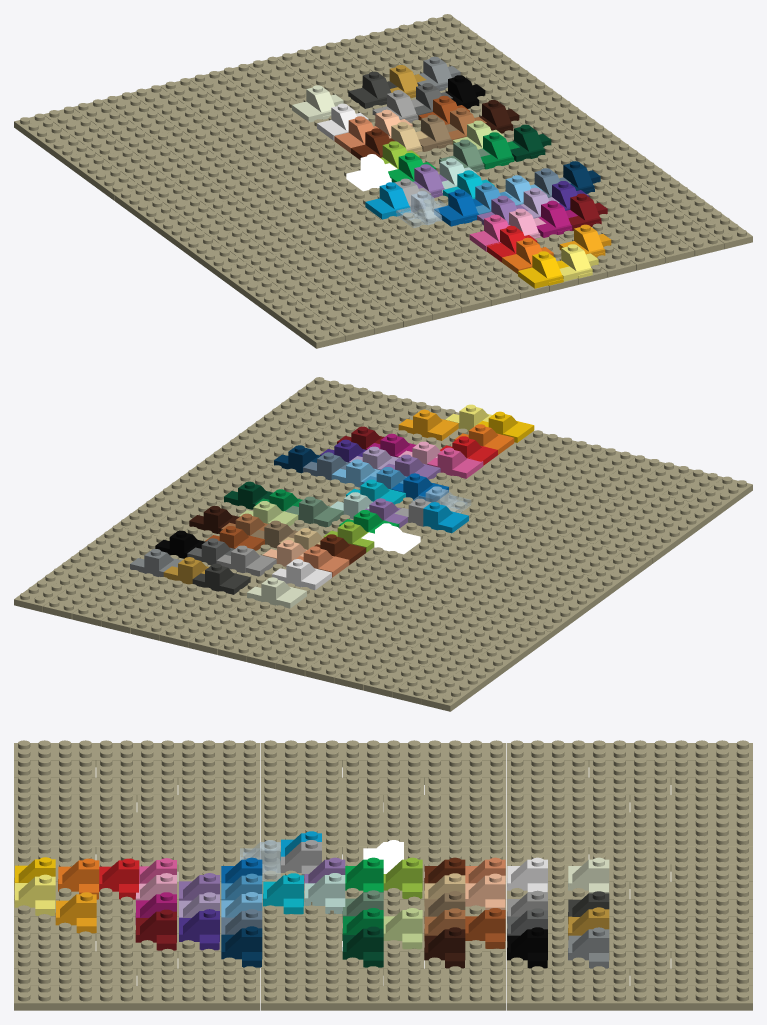
The model's file is legobricks.glb.
3 renders of one model, top to bottom at view 1: azimuth 30°, elevation 25°; view 2: azimuth 150°, elevation 25°; view 3: azimuth 270°, elevation 25°, orthographic. The views are drawn at different scales.
Visible parts, largest first — view 1: Block2x12.014, Block2x12.020, Block2x12.002, Block2x12.012, Block2x12.015, Block2x12.017, Block2x12.009, Block2x12.018, Block2x12, Block2x12.021, Block2x12.023, Block2x12.005 (+45 smaller); view 2: Block2x12.020, Block2x12.014, Block2x12.002, Block2x12.018, Block2x12.021, Block2x12.023, Block2x12.009, Block2x12.012, Block2x12, Block2x12.015, Block2x12.017, Block2x12.005 (+45 smaller); view 3: Block2x12.005, Block2x12.017, Block2x12.023, Block2x12.002, Block2x12.009, Block2x12.012, Block2x12.014, Block2x12.018, Block2x12.020, Block2x12.021, Block2x12.015, Block2x12 (+98 smaller).
Boxes of the visible parts, box(x1,y1,x2,y2) form: Block2x12.014: box(215, 261, 345, 348); Block2x12.020: box(14, 113, 142, 200); Block2x12.002: box(115, 187, 243, 274); Block2x12.012: box(362, 225, 490, 313); Block2x12.015: box(333, 233, 461, 320); Block2x12.017: box(624, 162, 752, 249); Block2x12.009: box(232, 159, 359, 240); Block2x12.018: box(160, 78, 287, 159); Block2x12: box(261, 152, 388, 233); Block2x12.021: box(131, 85, 258, 166); Block2x12.023: box(422, 14, 549, 95); Block2x12.005: box(523, 88, 650, 169); Block2x12.020: box(421, 624, 551, 711); Block2x12.014: box(624, 476, 752, 563); Block2x12.002: box(523, 550, 651, 637); Block2x12.018: box(276, 588, 404, 676); Block2x12.021: box(305, 596, 433, 683); Block2x12.023: box(14, 525, 142, 612); Block2x12.009: box(407, 522, 534, 603); Block2x12.012: box(479, 441, 606, 522); Block2x12: box(378, 515, 505, 596); Block2x12.015: box(508, 448, 635, 529); Block2x12.017: box(217, 377, 344, 458); Block2x12.005: box(116, 451, 243, 532); Block2x12.005: box(260, 983, 506, 1010); Block2x12.017: box(14, 983, 259, 1010); Block2x12.023: box(507, 983, 752, 1010); Block2x12.002: box(260, 740, 506, 767); Block2x12.009: box(260, 810, 506, 829); Block2x12.012: box(14, 827, 259, 853); Block2x12.014: box(14, 740, 259, 766); Block2x12.018: box(507, 827, 752, 853); Block2x12.020: box(507, 740, 752, 766); Block2x12.021: box(507, 810, 752, 829); Block2x12.015: box(14, 810, 259, 829); Block2x12: box(260, 827, 506, 854).
Size of the model in its own units: 2.4 by 0.144 by 2.88.
